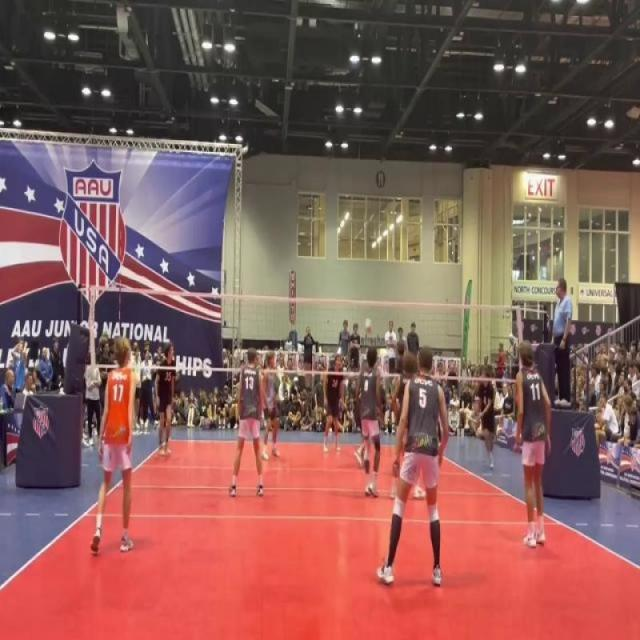volleyball: (365, 320, 370, 336)
